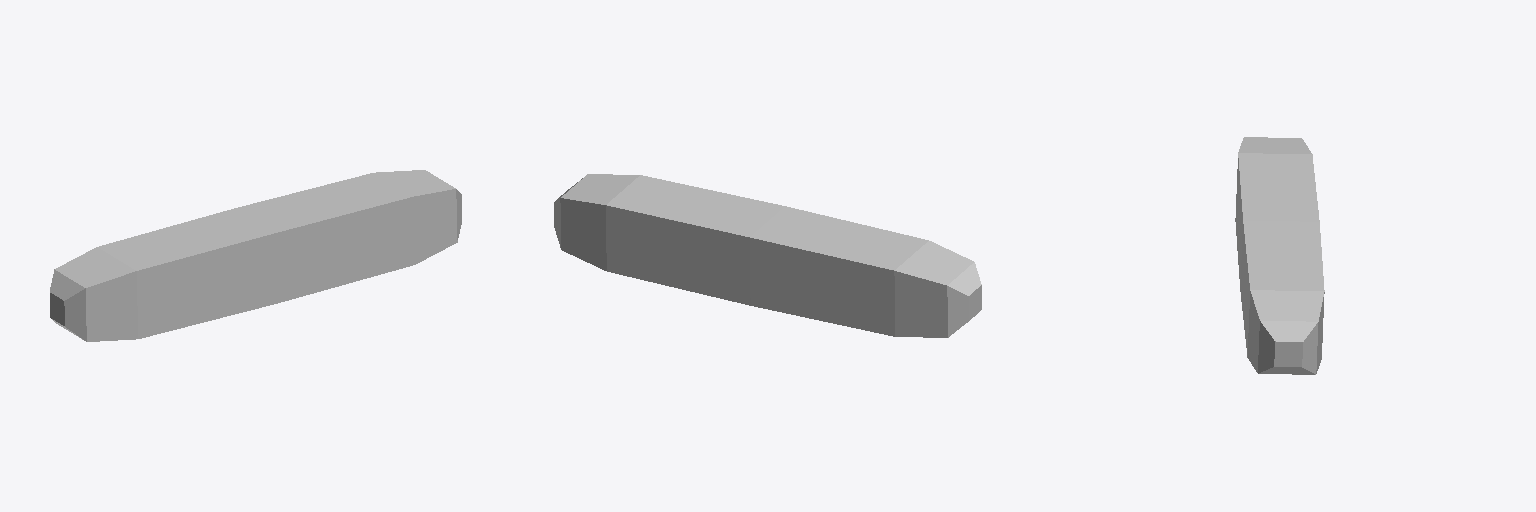
The model's file is LeftForeArm.obj.
3 renders of one model, left to right at view 1: azimuth 30°, elevation 25°; view 2: azimuth 150°, elevation 25°; view 3: azimuth 270°, elevation 25°, orthographic.
Parts seen in each view (by area): view 1: ../rami/model/LeftForeArm; view 2: ../rami/model/LeftForeArm; view 3: ../rami/model/LeftForeArm.
Boxes of the visible parts, <box> form: ../rami/model/LeftForeArm: <box>50,170,461,341</box>; ../rami/model/LeftForeArm: <box>554,174,981,337</box>; ../rami/model/LeftForeArm: <box>1235,137,1324,374</box>.
Size of the model in its own units: 0.2766 by 0.0468 by 0.0525.